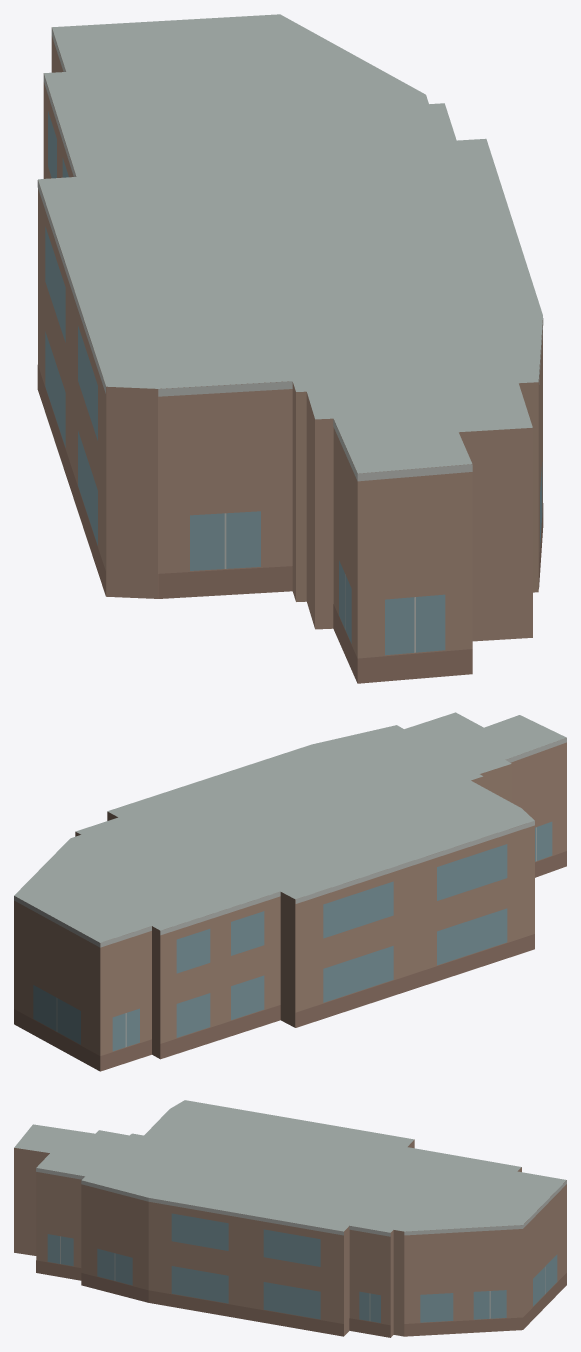
File: survey-upis-32824735.glb
3 renders of one model, top to bottom at view 1: azimuth 30°, elevation 25°; view 2: azimuth 150°, elevation 25°; view 3: azimuth 270°, elevation 25°, orthographic. The views are drawn at different scales.
Parts seen in each view (by area): view 1: survey-upis-32824735.tmp; view 2: survey-upis-32824735.tmp; view 3: survey-upis-32824735.tmp.
Part boxes in pixels (left/top/right/bottom): survey-upis-32824735.tmp: left=37, top=14, right=543, bottom=683; survey-upis-32824735.tmp: left=14, top=712, right=566, bottom=1071; survey-upis-32824735.tmp: left=14, top=1100, right=566, bottom=1337.
Size of the model in its own units: 17.78 by 6.55 by 31.26.
